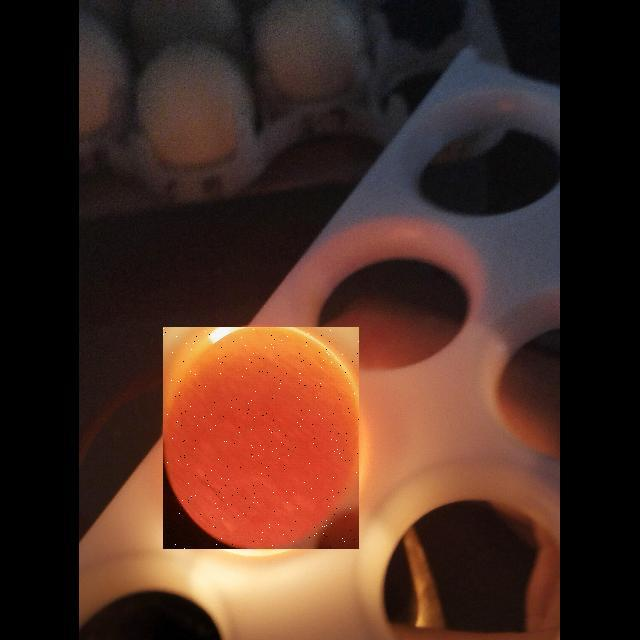Infertile: (163, 327, 359, 549)
